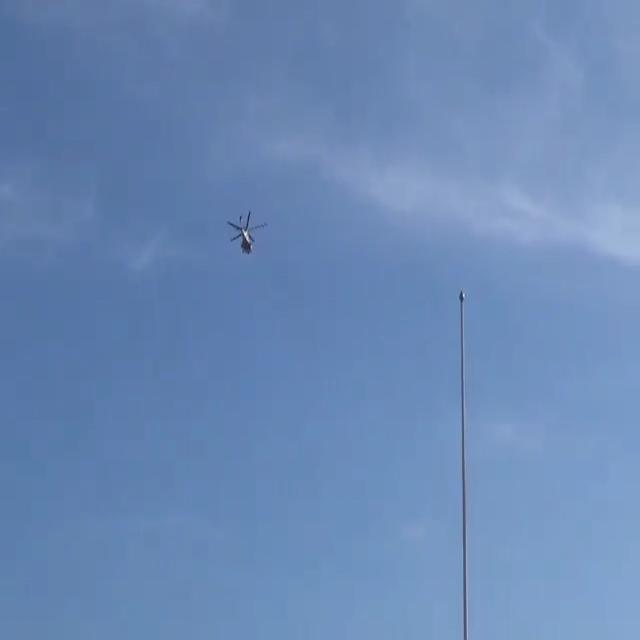Helicopter: (210, 186, 282, 272)
